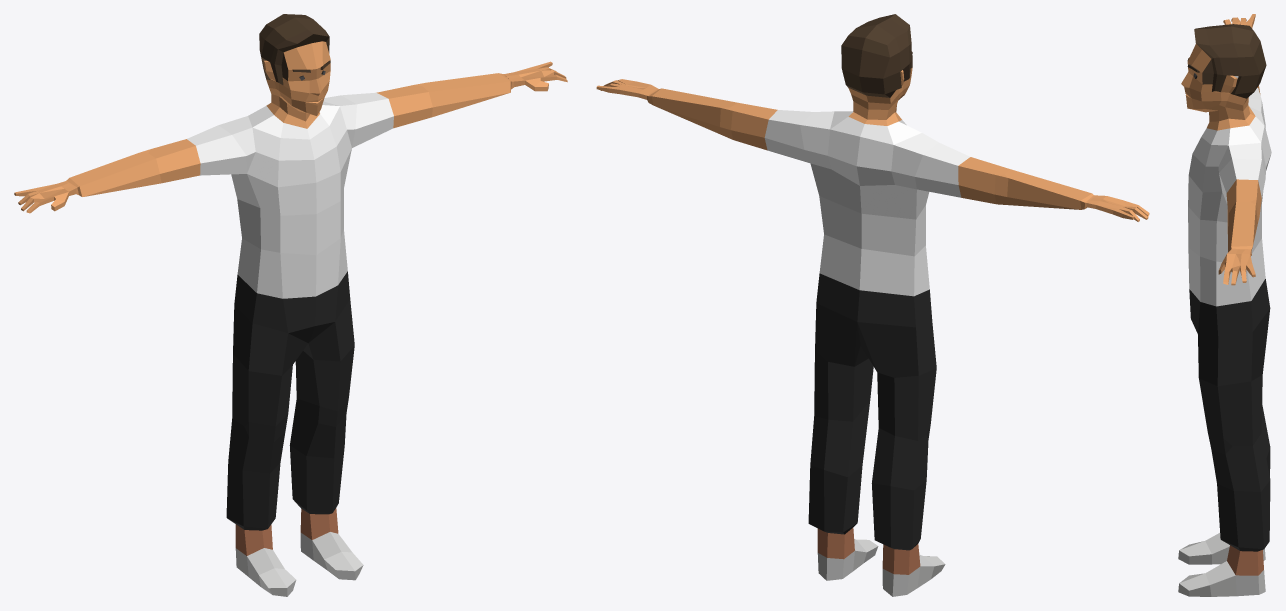
Rendered from DÜZELTMEKARAKTER3blend.fbx.
3 views of the same model, side by side, from view 1: azimuth 30°, elevation 25°; view 2: azimuth 150°, elevation 25°; view 3: azimuth 270°, elevation 25° (orthographic).
Visible parts, largest first — view 1: KaraKenan; view 2: KaraKenan; view 3: KaraKenan.
Part boxes in pixels (x1=…): KaraKenan: x1=14, y1=14, x2=567, y2=596; KaraKenan: x1=596, y1=14, x2=1149, y2=596; KaraKenan: x1=1178, y1=14, x2=1271, y2=596.
Size of the model in its own units: 274 by 266 by 41.03.
